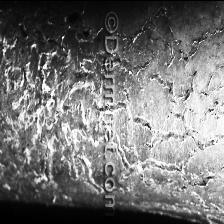Non-Cancerous Skin Condition: (0, 0, 224, 187)
